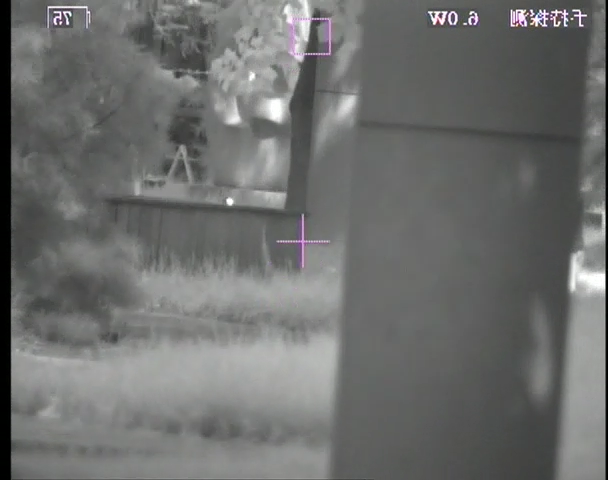my: (225, 196, 234, 206)
